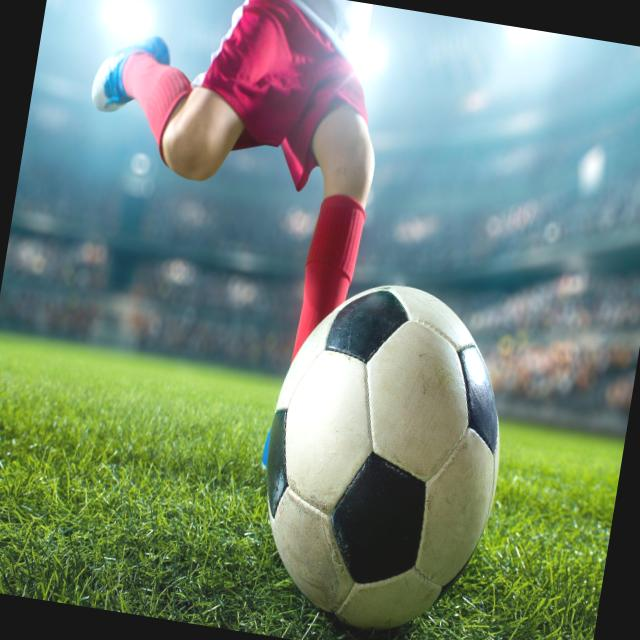Soccer Ball: (243, 270, 524, 640)
